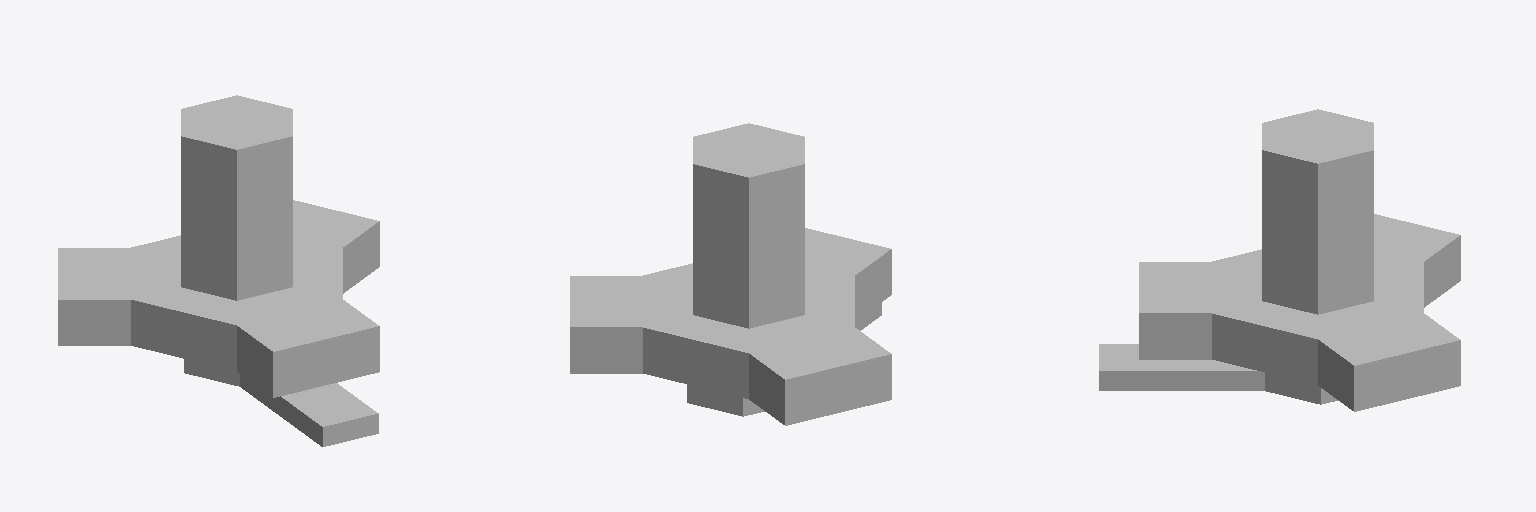
The model's file is Triagon Alley.obj.
3 renders of one model, left to right at view 1: azimuth 30°, elevation 25°; view 2: azimuth 150°, elevation 25°; view 3: azimuth 270°, elevation 25°, orthographic.
Parts seen in each view (by area): view 1: Mesh1 Model, Mesh2 Model; view 2: Mesh1 Model, Mesh2 Model; view 3: Mesh1 Model, Mesh2 Model.
Part boxes in pixels (bbox=[...]): Mesh1 Model: bbox=[58, 95, 379, 397]; Mesh2 Model: bbox=[184, 359, 378, 446]; Mesh1 Model: bbox=[570, 123, 891, 425]; Mesh2 Model: bbox=[687, 302, 881, 416]; Mesh1 Model: bbox=[1139, 109, 1460, 411]; Mesh2 Model: bbox=[1099, 344, 1338, 404].
Size of the model in its own units: 262 by 186 by 255.